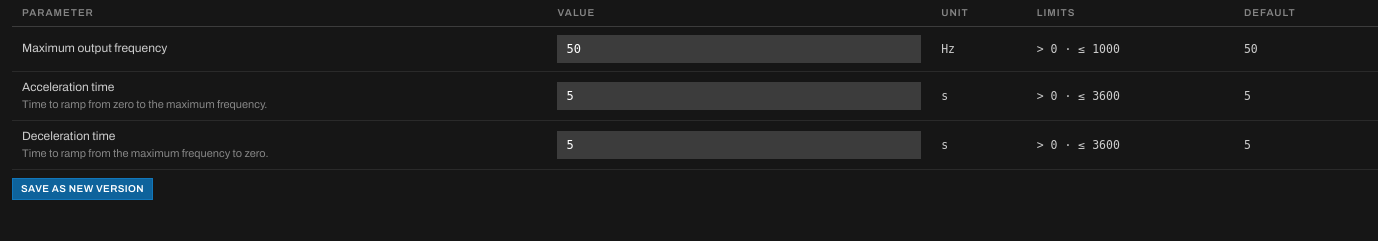
it: parameters form › shows why a save was refused
The width and height of the screenshot is (1378, 241).
Step 1. Click the button "Save as new version" → x=82, y=189, box x1=12 y1=178 x2=153 y2=200
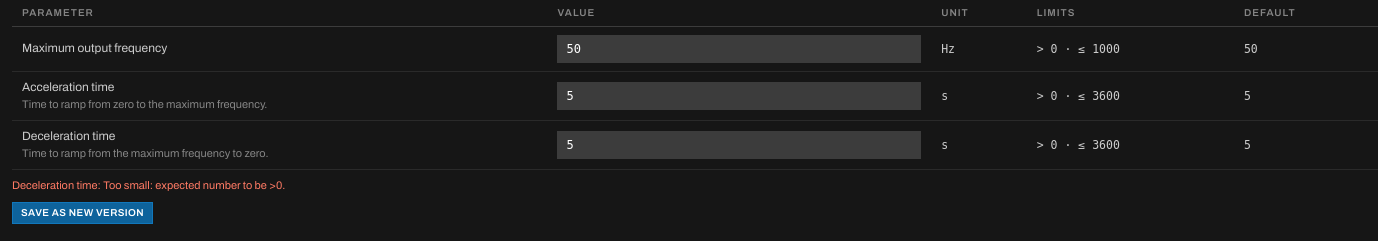
expect the message shows "Deceleration time: Too small": met, box x1=12 y1=179 x2=285 y2=191
